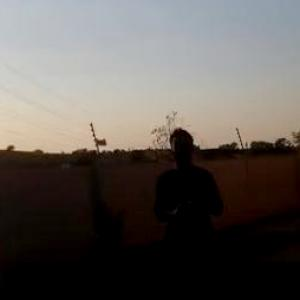follow: (150, 124, 229, 299)
